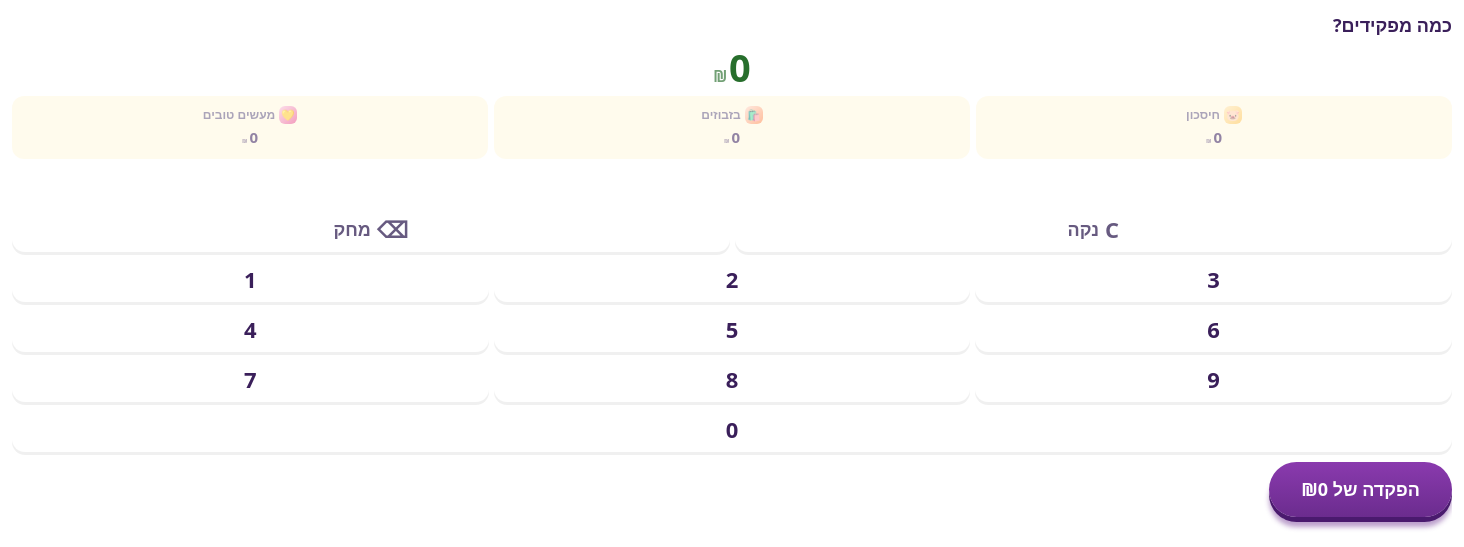
Test: DepositForm › disables submit while the deposit is in flight
Click the button "5".
click(732, 329)  # box [494, 306, 970, 352]
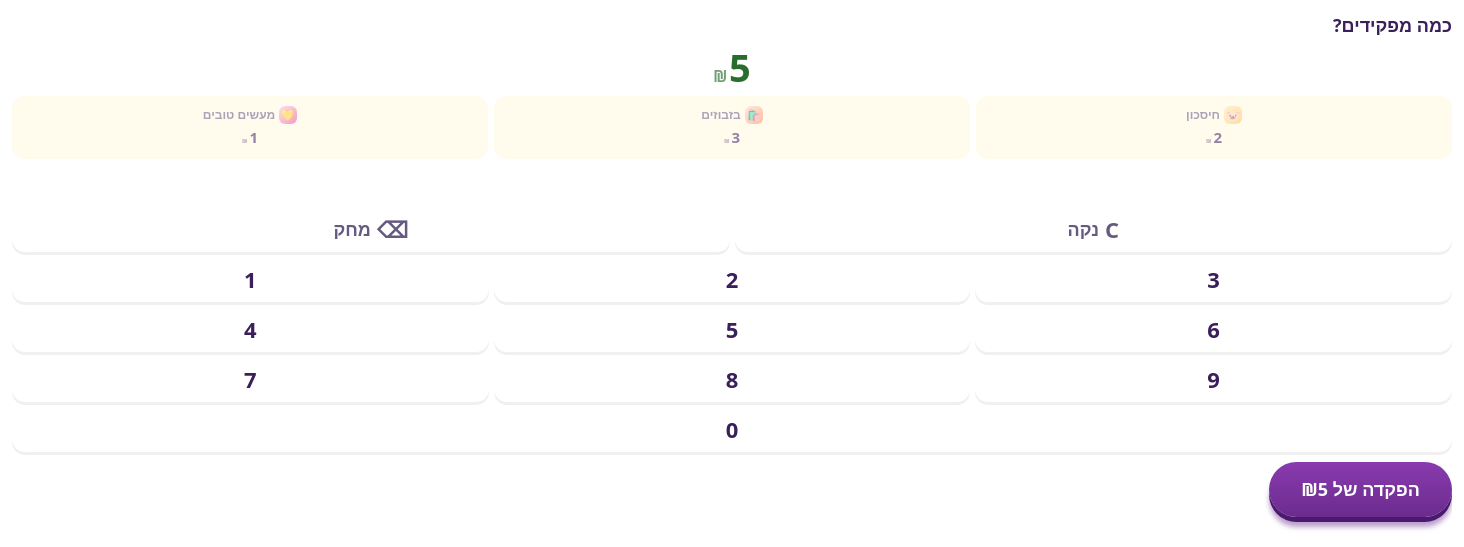
Click the button with test id "transaction-drawer-confirm".
click(1361, 489)  # box [1269, 462, 1452, 516]
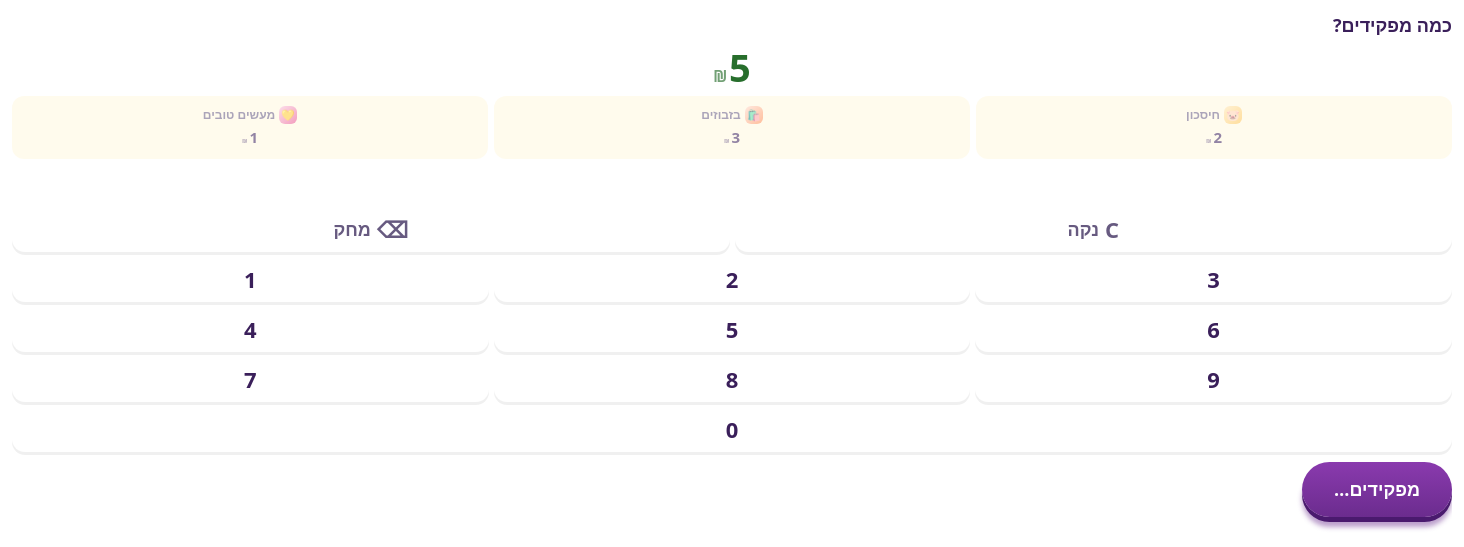
Now the button with test id "transaction-drawer-confirm" is disabled, box [1302, 462, 1452, 516]
